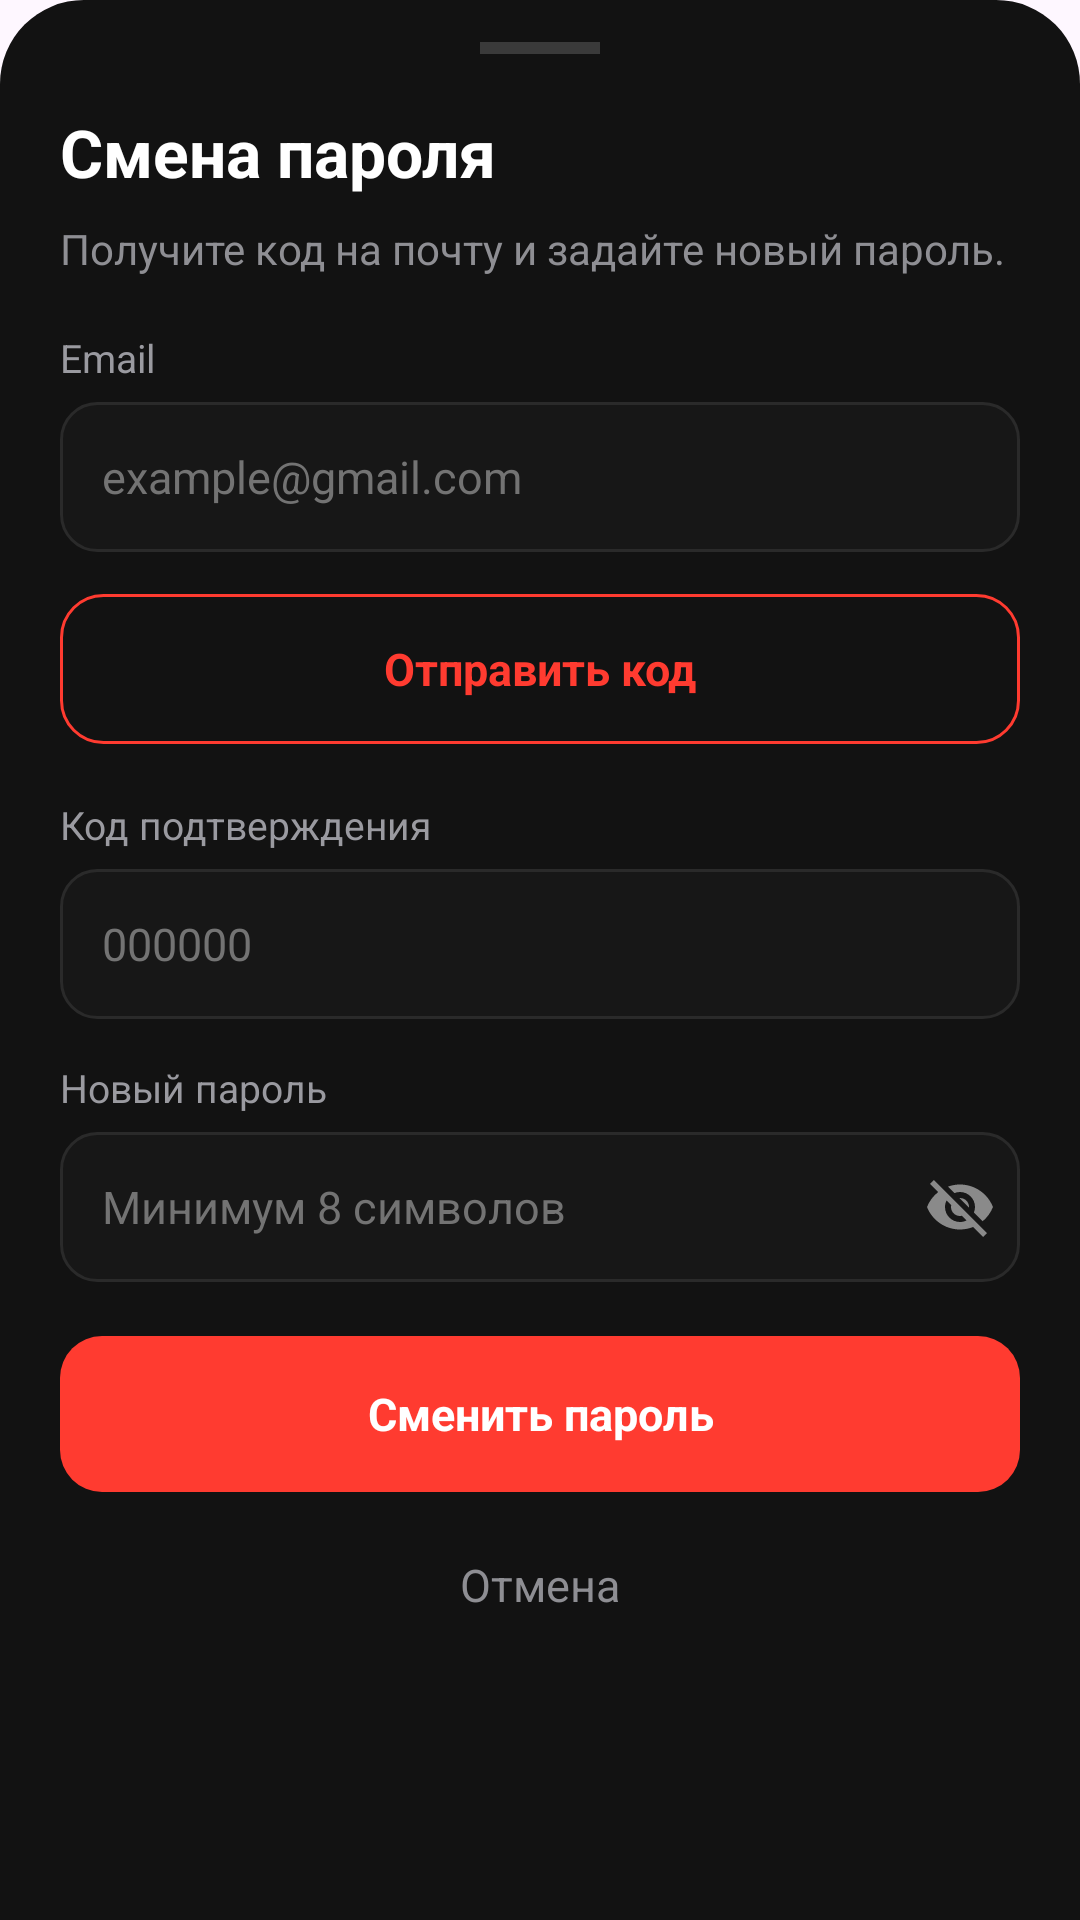

Icons on this 1080x1920 Android screen, each with its box as detection(x1, y1, x2, y2):
Показать пароль: detection(927, 1180, 993, 1237)
